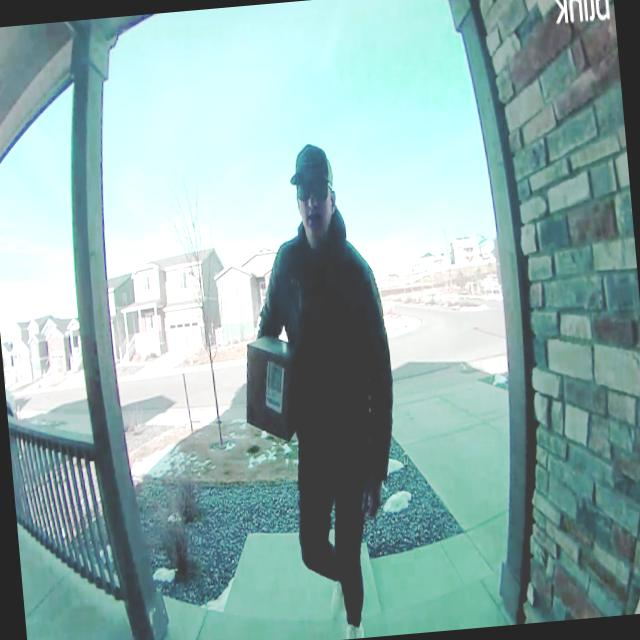Box: (238, 330, 304, 446)
